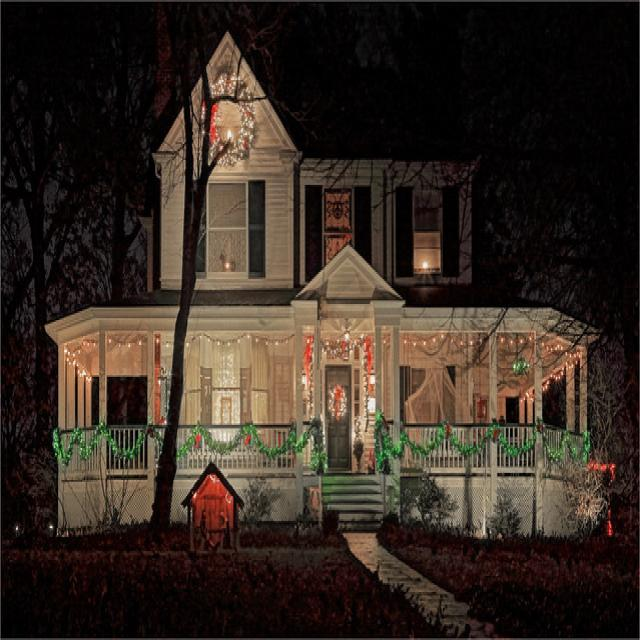Normal_building: (41, 26, 607, 548)
